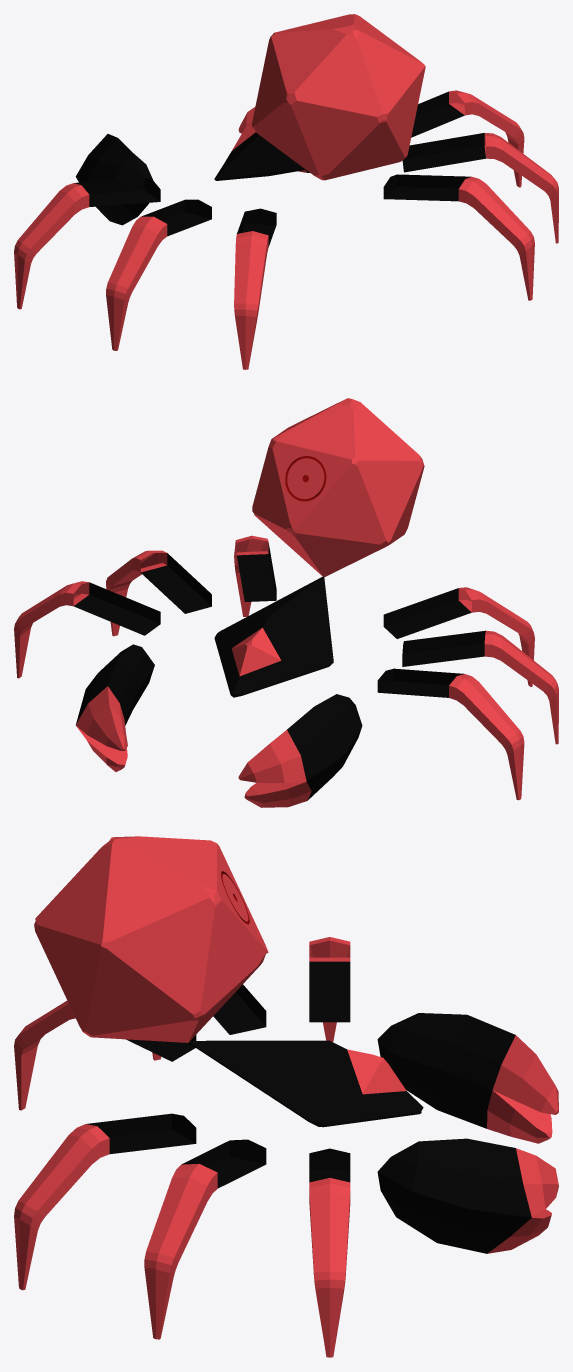
Rendered from boss_fire_uvs_textures_test.fbx.
The picture shows the model from 3 angles, top to bottom: view 1: azimuth 30°, elevation 25°; view 2: azimuth 150°, elevation 25°; view 3: azimuth 270°, elevation 25°; orthographic projection. The views are drawn at different scales.
Parts seen in each view (by area): view 1: spiderboss_fire; view 2: spiderboss_fire; view 3: spiderboss_fire.
Part boxes in pixels (<box>): spiderboss_fire: <box>14,14,558,369</box>; spiderboss_fire: <box>14,398,558,807</box>; spiderboss_fire: <box>14,836,558,1357</box>.
Bounding box in the file's own units: 556 × 294 × 403.
